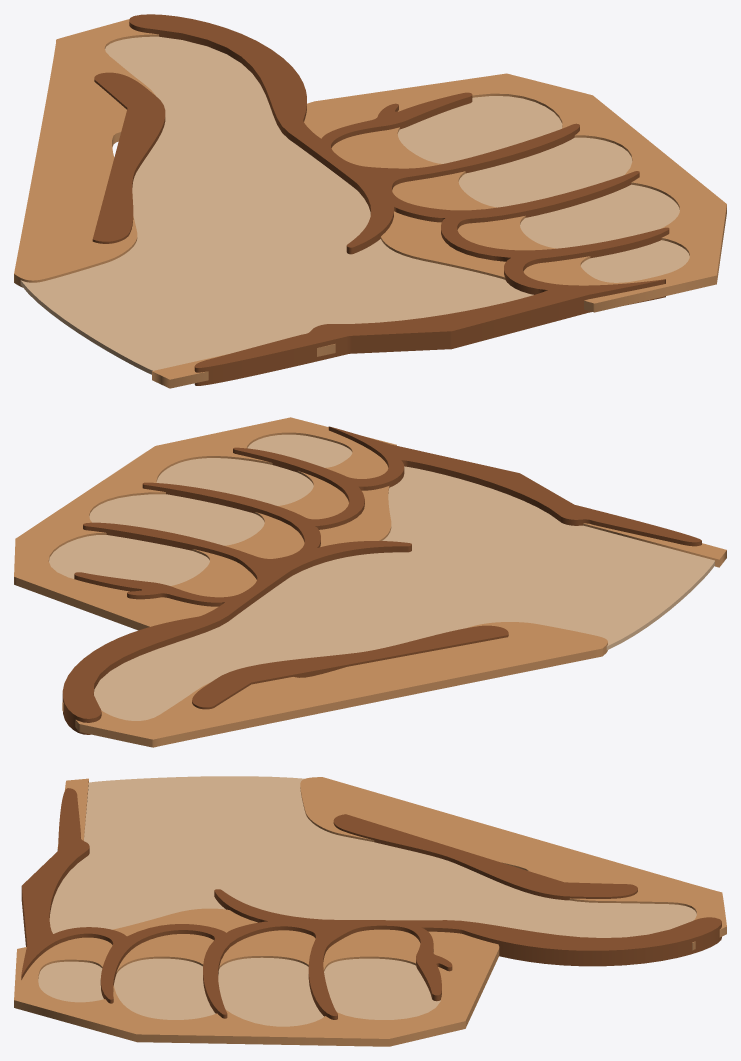
File: emoji_u1f44d_1f3fc.glb
The picture shows the model from 3 angles, top to bottom: view 1: azimuth 30°, elevation 25°; view 2: azimuth 150°, elevation 25°; view 3: azimuth 270°, elevation 25°; orthographic projection. The views are drawn at different scales.
Visible parts, largest first — view 1: emoji_u1f44d_1f3fc; view 2: emoji_u1f44d_1f3fc; view 3: emoji_u1f44d_1f3fc.
Part boxes in pixels (<box>): emoji_u1f44d_1f3fc: <box>14,14,726,388</box>; emoji_u1f44d_1f3fc: <box>14,417,726,747</box>; emoji_u1f44d_1f3fc: <box>14,776,726,1046</box>.
Bounding box in the file's own units: 0.0292 × 0.0008 × 0.0332.
